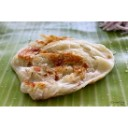parota: (11, 35, 114, 100)
